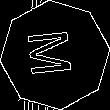M_E: (28, 30, 82, 80)
